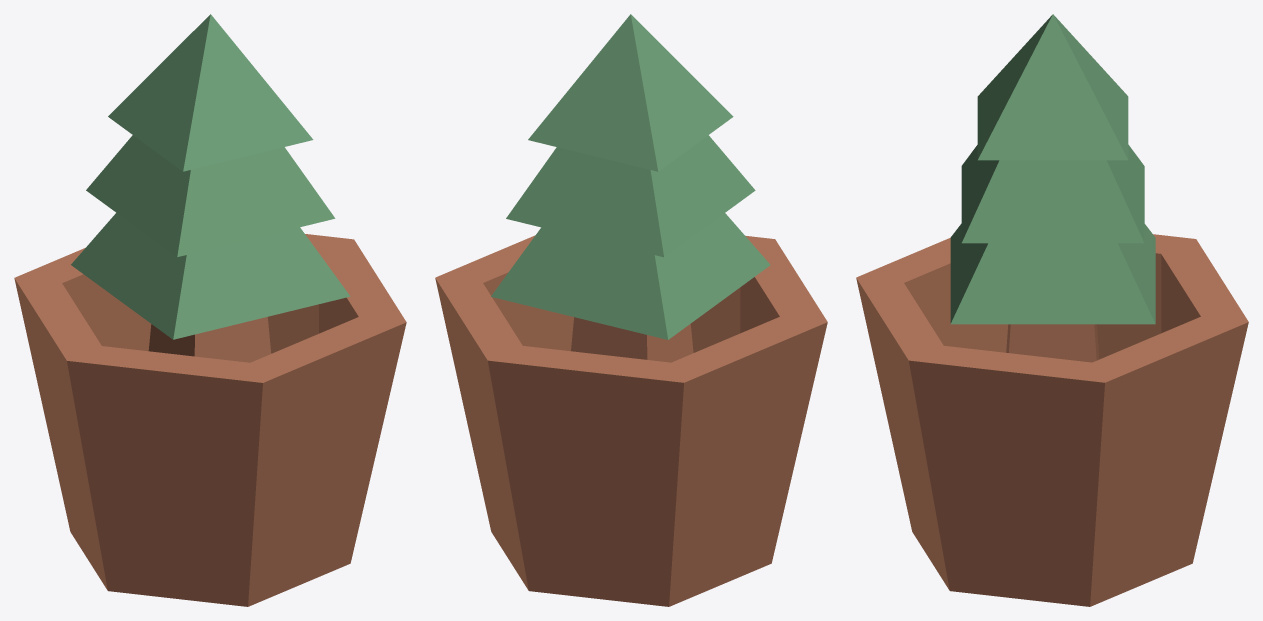
The model's file is plant-small-fir.glb.
3 views of the same model, side by side, from view 1: azimuth 30°, elevation 25°; view 2: azimuth 150°, elevation 25°; view 3: azimuth 270°, elevation 25° (orthographic).
Parts seen in each view (by area): view 1: plant-small-fir; view 2: plant-small-fir; view 3: plant-small-fir.
Boxes of the visible parts, box(x1,y1,x2,y2) form: plant-small-fir: box(14, 14, 406, 606); plant-small-fir: box(435, 14, 827, 606); plant-small-fir: box(856, 14, 1248, 606).
Size of the model in its own units: 0.22 by 0.33 by 0.22.
